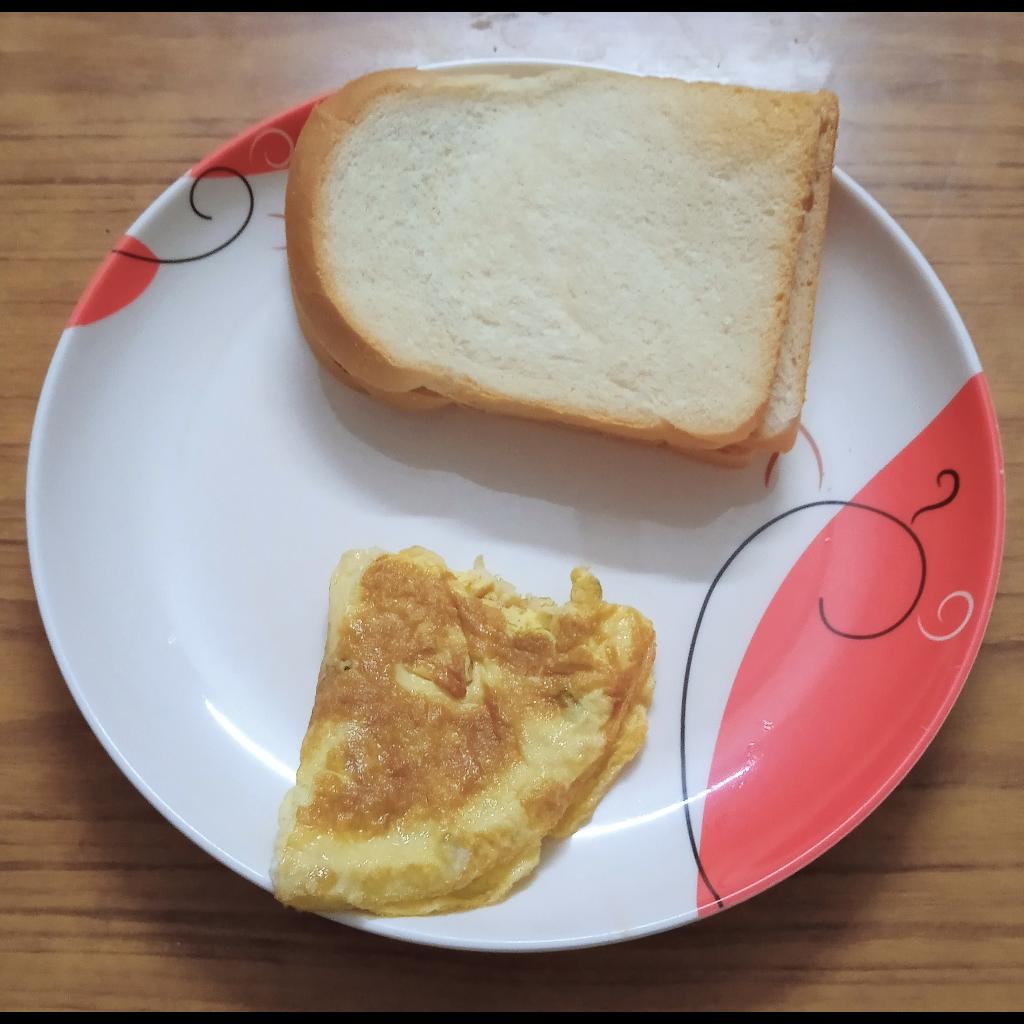bread: (283, 69, 840, 470)
egg-poached: (273, 543, 659, 918)
